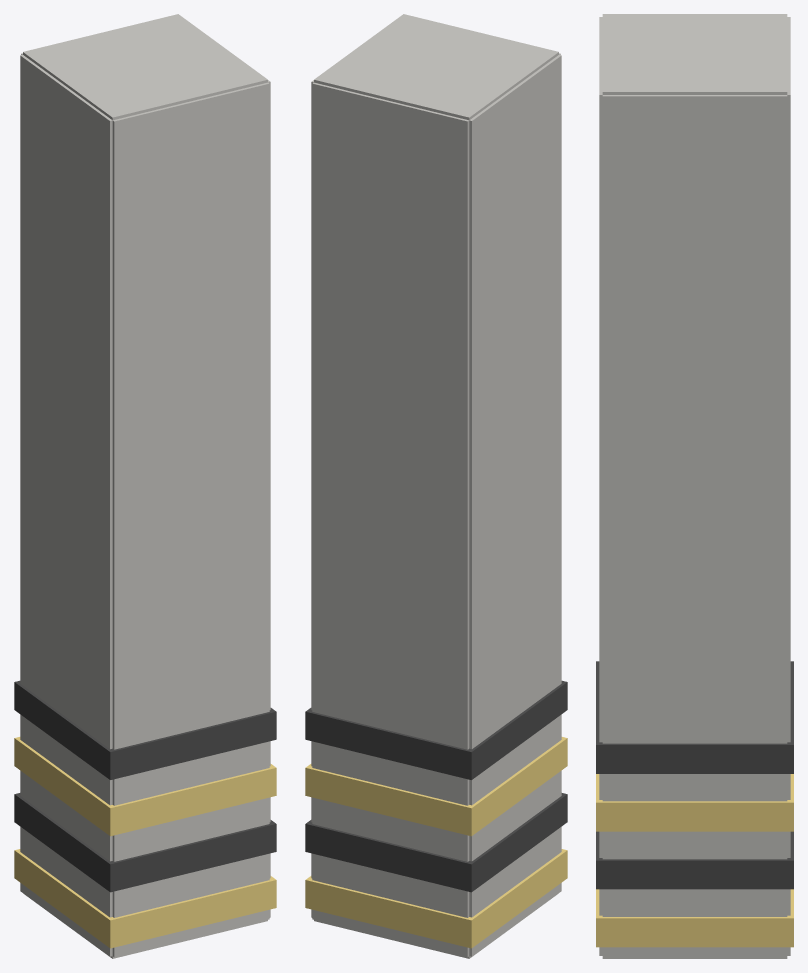
Rendered from columna_estacionamiento.glb.
3 renders of one model, left to right at view 1: azimuth 30°, elevation 25°; view 2: azimuth 150°, elevation 25°; view 3: azimuth 270°, elevation 25°, orthographic. The views are drawn at different scales.
Visible parts, largest first — view 1: columna_estacionamiento; view 2: columna_estacionamiento; view 3: columna_estacionamiento.
Boxes of the visible parts, x1=… form: columna_estacionamiento: x1=14, y1=14, x2=276, y2=958; columna_estacionamiento: x1=305, y1=14, x2=567, y2=958; columna_estacionamiento: x1=596, y1=14, x2=793, y2=958.
Size of the model in its own units: 0.62 by 3 by 0.62.
